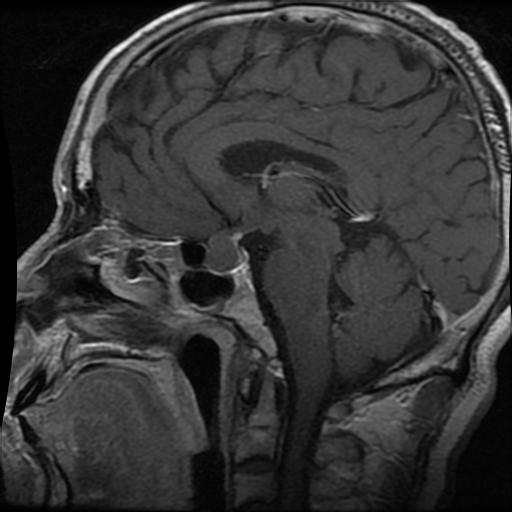Pituirity_tumour: (205, 230, 242, 272)
